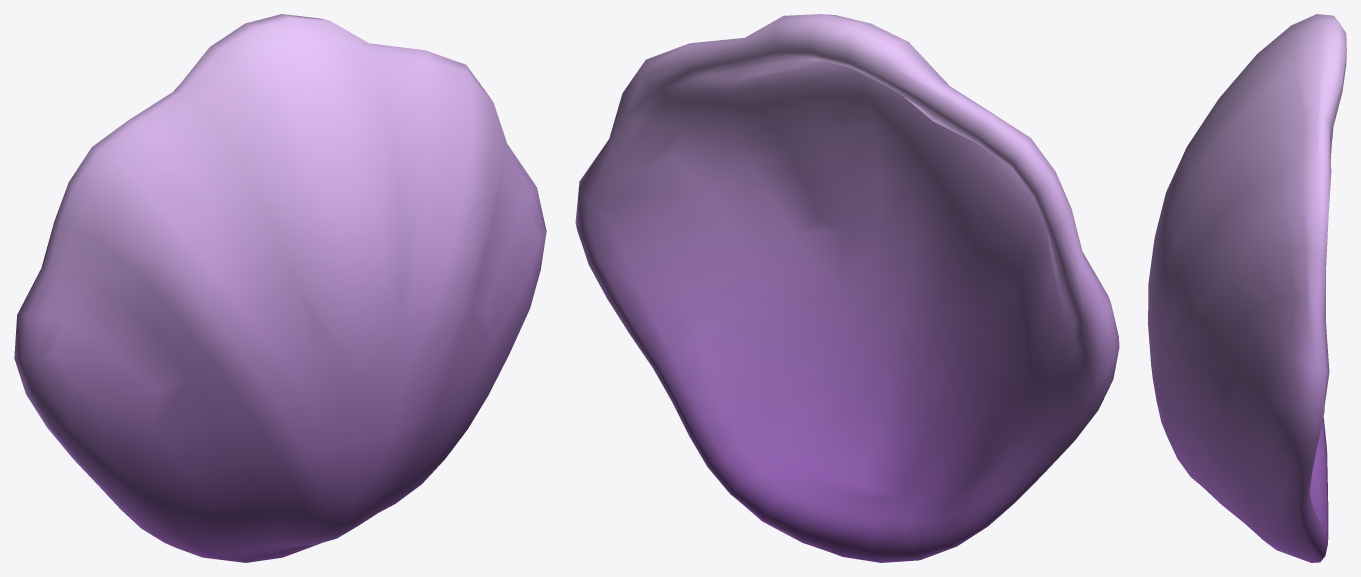
File: Fbx_Seashell.fbx
The picture shows the model from 3 angles, left to right: view 1: azimuth 30°, elevation 25°; view 2: azimuth 150°, elevation 25°; view 3: azimuth 270°, elevation 25°; orthographic projection. The views are drawn at different scales.
Parts seen in each view (by area): view 1: AnnieShell_low; view 2: AnnieShell_low; view 3: AnnieShell_low.
Part boxes in pixels (left/top/right/bottom): AnnieShell_low: left=14, top=14, right=546, bottom=562; AnnieShell_low: left=575, top=14, right=1119, bottom=562; AnnieShell_low: left=1148, top=14, right=1346, bottom=562.
Bounding box in the file's own units: 78.06 × 75.12 × 26.24.
